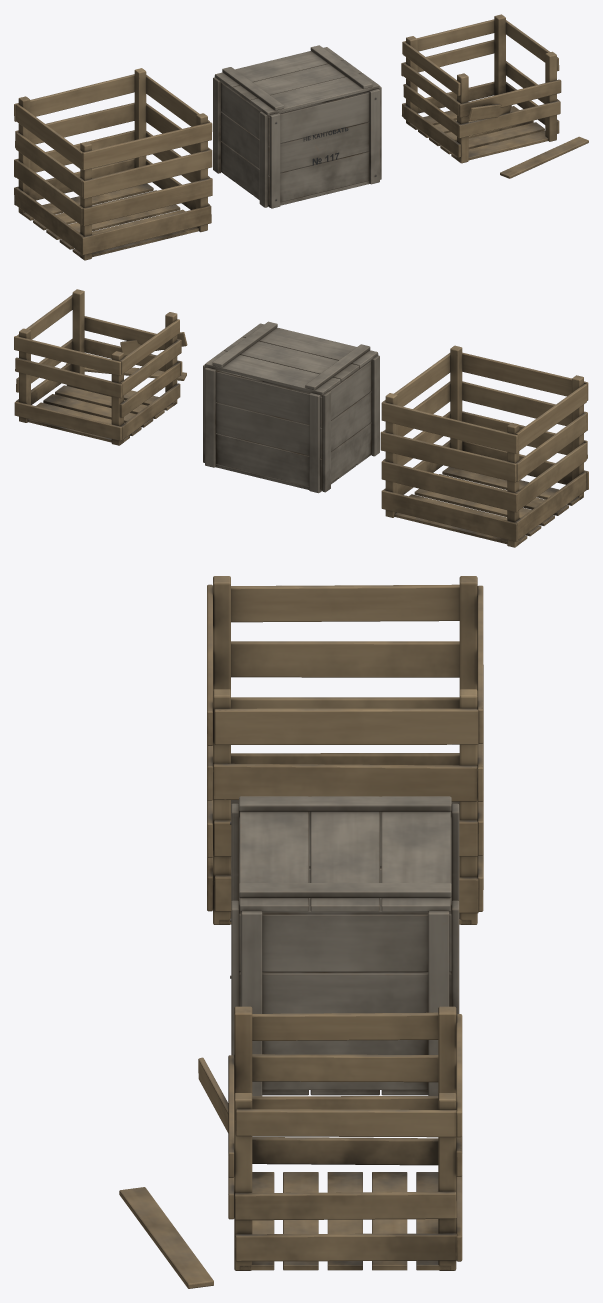
The model's file is Crates.fbx.
The picture shows the model from 3 angles, top to bottom: view 1: azimuth 30°, elevation 25°; view 2: azimuth 150°, elevation 25°; view 3: azimuth 270°, elevation 25°; orthographic projection. The views are drawn at different scales.
Parts seen in each view (by area): view 1: Crate_Slat, Crate_Box, Crate_Broken; view 2: Crate_Slat, Crate_Box, Crate_Broken; view 3: Crate_Broken, Crate_Box, Crate_Slat.
Part boxes in pixels (box(x1,y1,x2,y2)): Crate_Slat: box(14, 68, 212, 260); Crate_Box: box(213, 45, 381, 208); Crate_Broken: box(401, 14, 588, 178); Crate_Slat: box(380, 345, 588, 547); Crate_Box: box(203, 321, 379, 493); Crate_Broken: box(14, 289, 187, 445); Crate_Broken: box(119, 1006, 462, 1288); Crate_Box: box(230, 796, 459, 1096); Crate_Slat: box(207, 576, 483, 924).
Bounding box in the file's own units: 2.72 × 0.596 × 0.8568.
